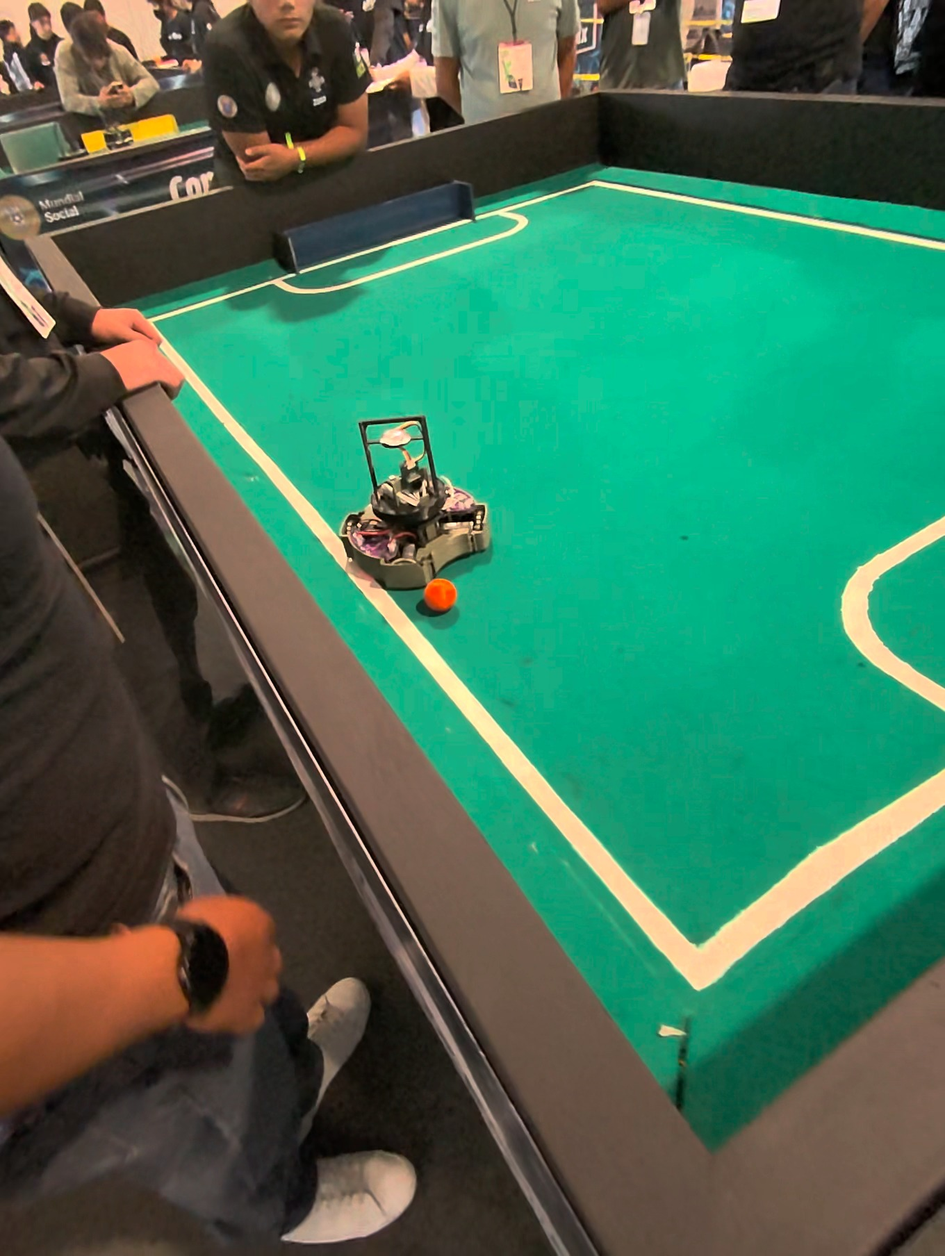Robot: (341, 438, 494, 600)
pelota: (397, 565, 493, 651)
